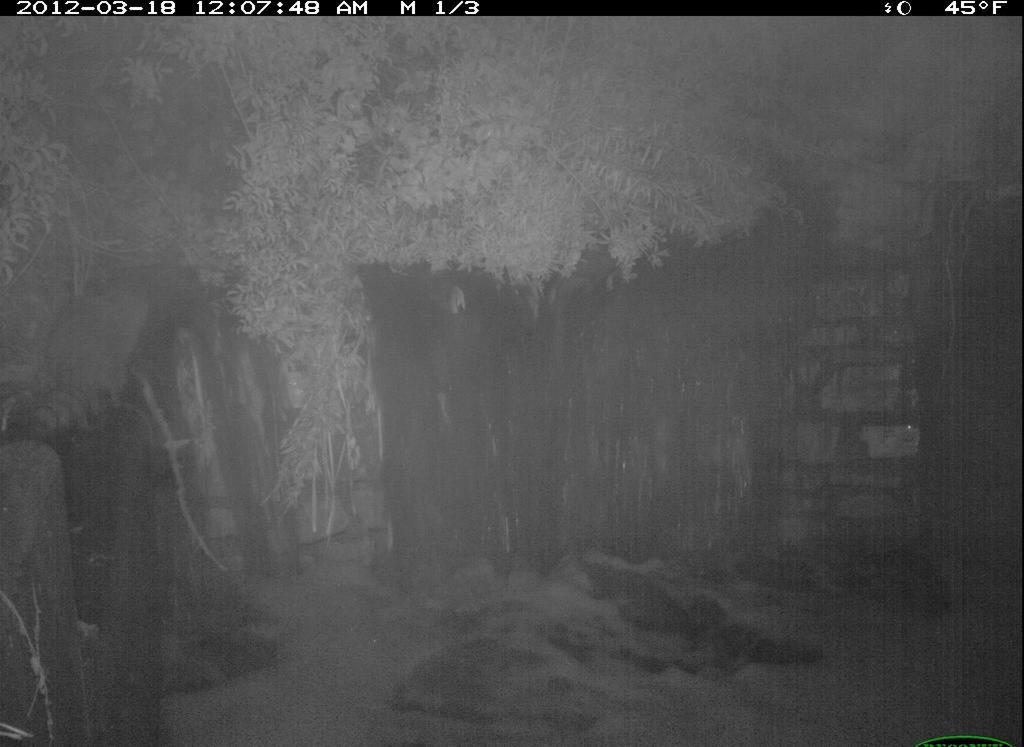raccoon: (20, 263, 168, 459)
